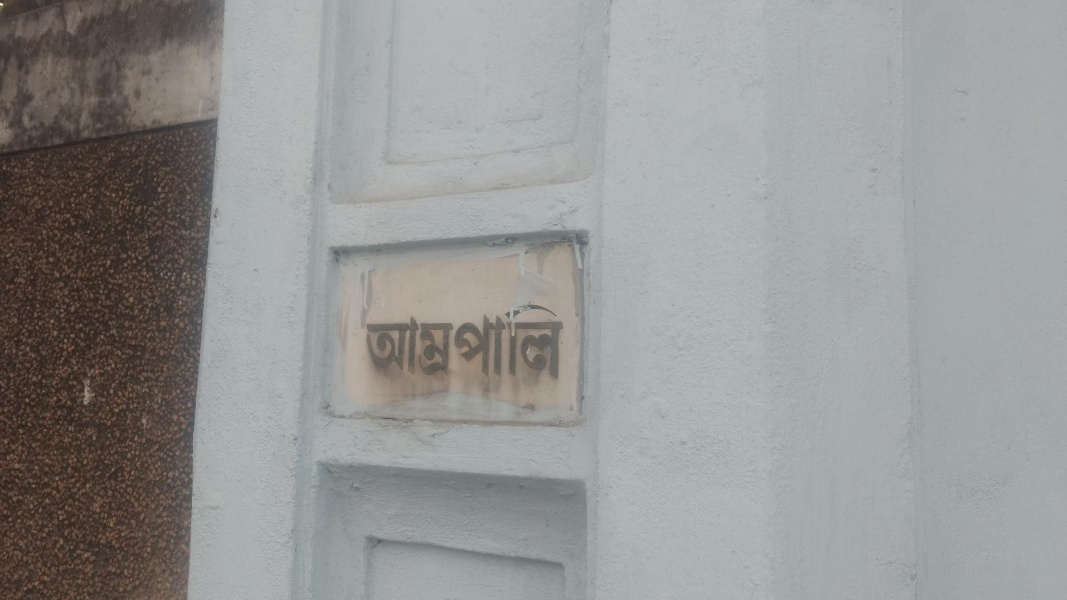text: (369, 303, 384, 384), (385, 303, 400, 384), (401, 303, 416, 384), (417, 303, 432, 384), (433, 303, 448, 384), (449, 303, 464, 384), (465, 303, 480, 384), (481, 303, 496, 384), (497, 303, 512, 384), (513, 303, 528, 384), (529, 303, 544, 384), (545, 303, 560, 384), (561, 303, 567, 384), (364, 303, 368, 384)
